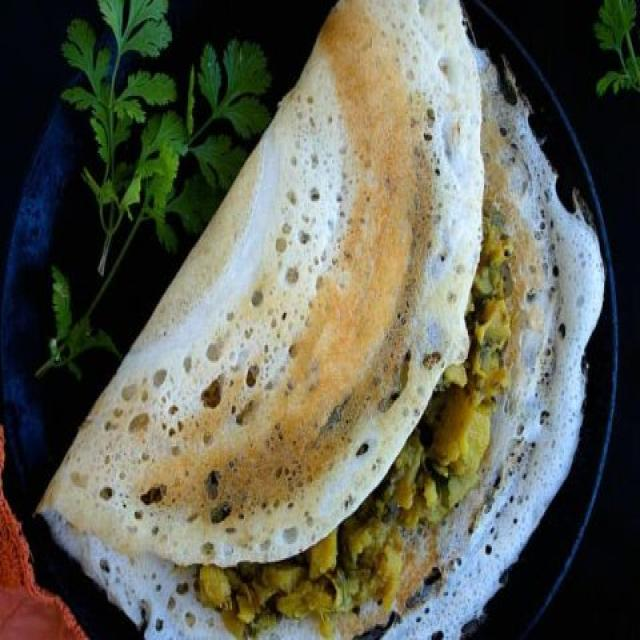dosa: (53, 2, 587, 636)
